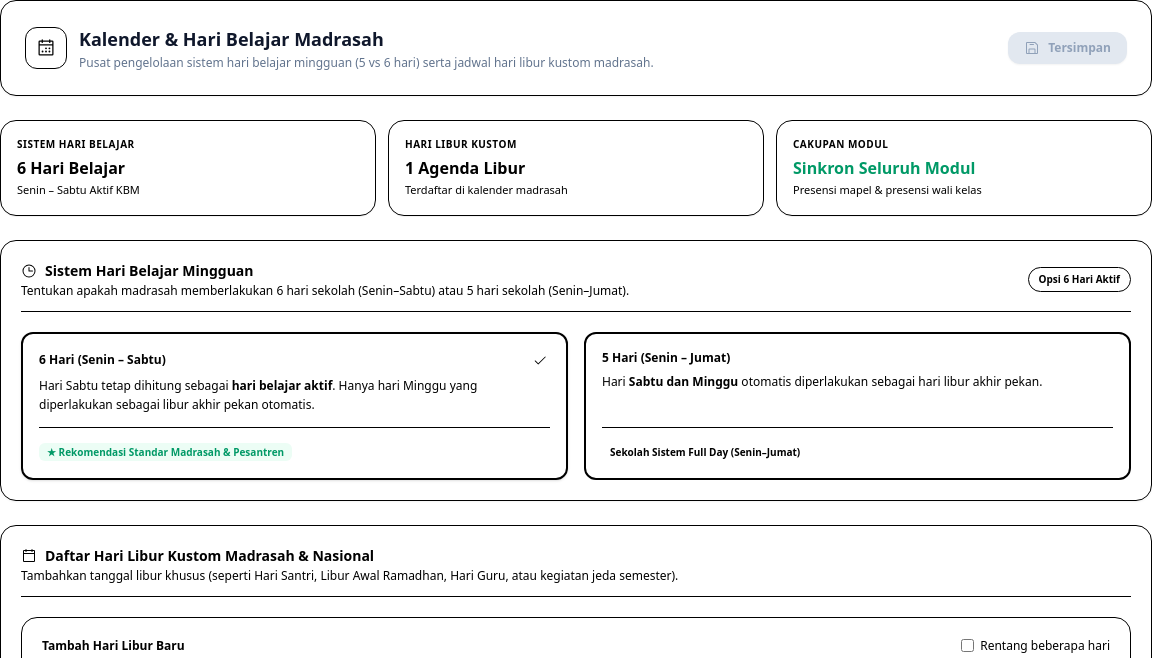
AcademicCalendarPage — Master Centralized Calendar & Holiday Management › form validation and draft semantics › rejects a reversed date range
Step 1. Click the checkbox labelled "Rentang beberapa hari" → (968, 646), box [961,639,974,652]
(page scrolled)
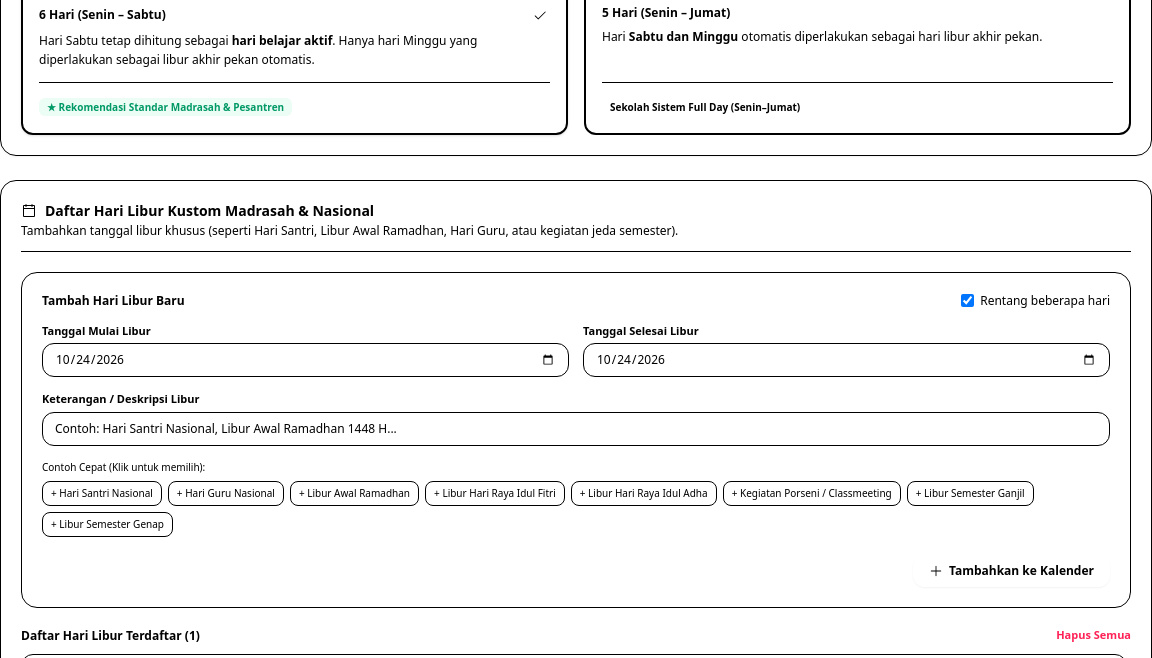
Step 2. Type "2026-11-10" into the date field with id "input-holiday-start-date" → (306, 360), box [42,343,569,377]
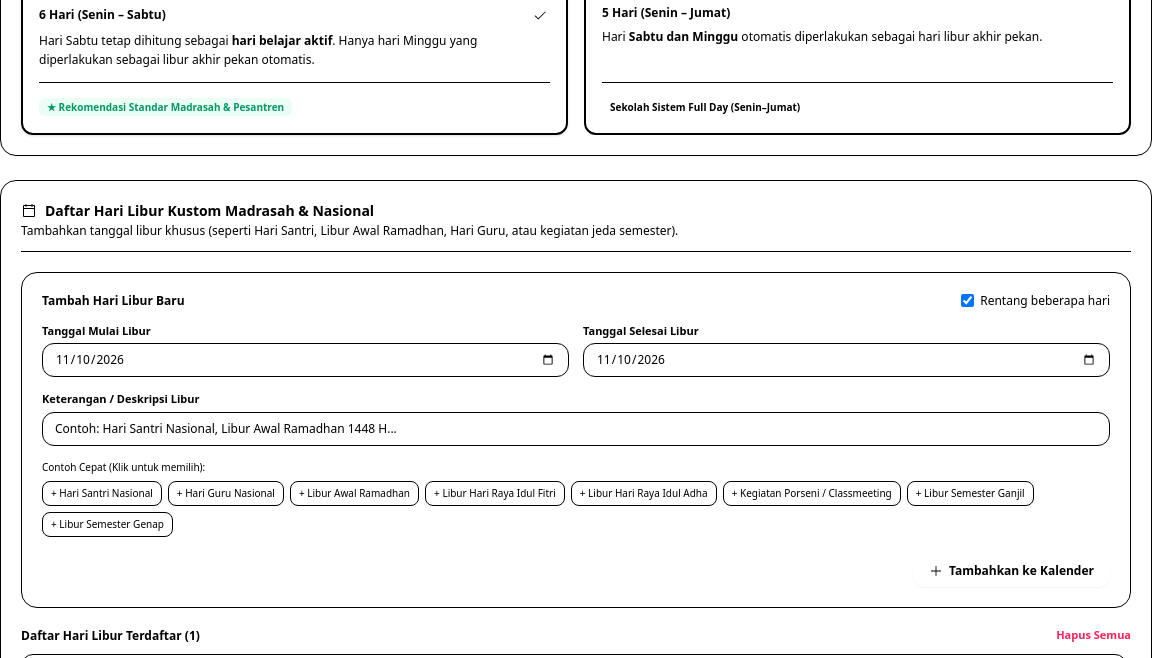
Step 3. Type "2026-11-05" into the date field with id "input-holiday-end-date" → (846, 360), box [583,343,1110,377]
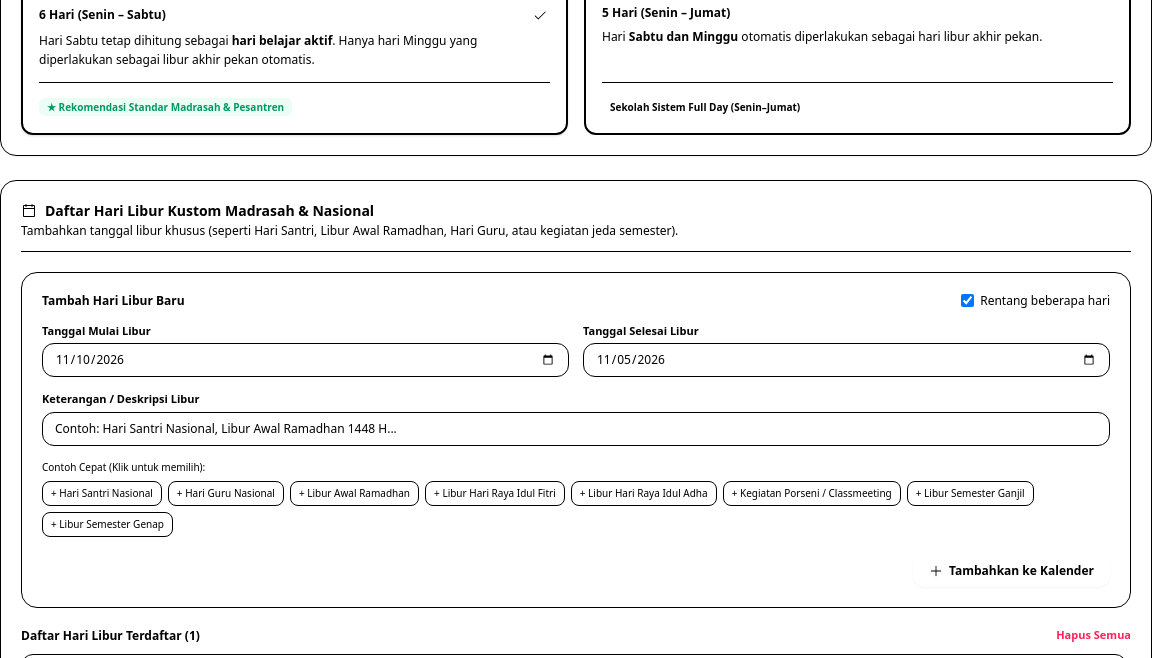
Step 4. Type "Libur Terbalik" into the field with id "input-holiday-description" → (576, 428), box [42,412,1110,446]
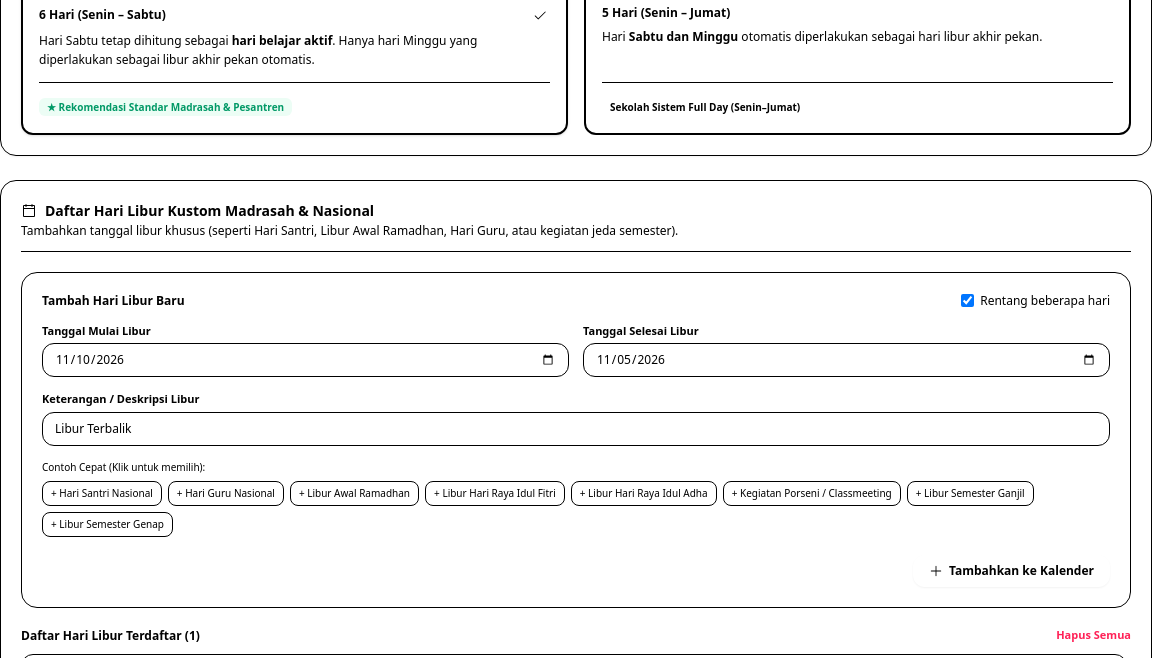
Step 5. Submit the form with id "btn-add-holiday", box [21,272,1131,608]
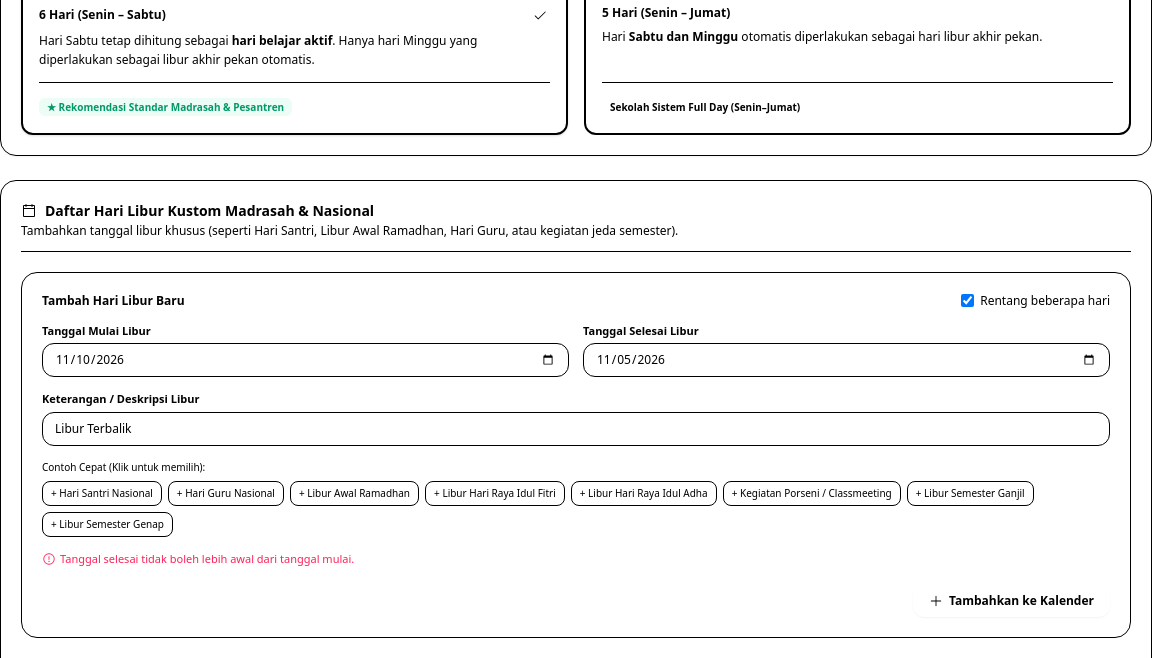
Result: the text "Tanggal selesai tidak boleh lebih awal dari tanggal mulai." is shown at [42,550,354,566]
